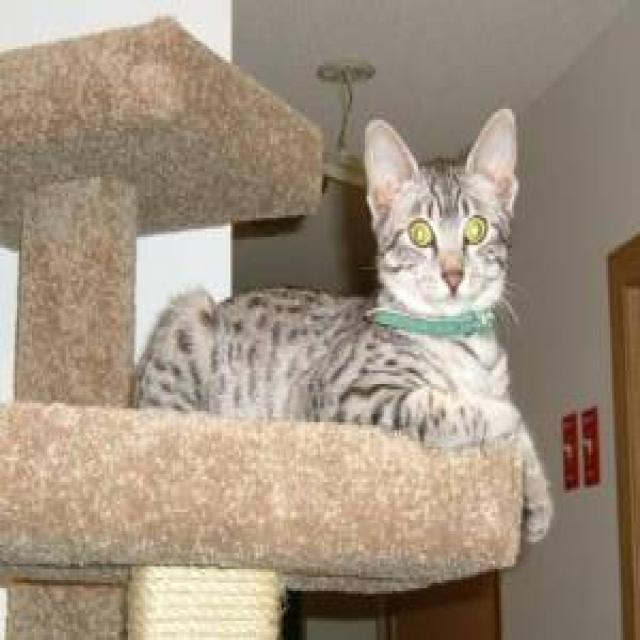Egyptian_Mau: (357, 107, 525, 324)
